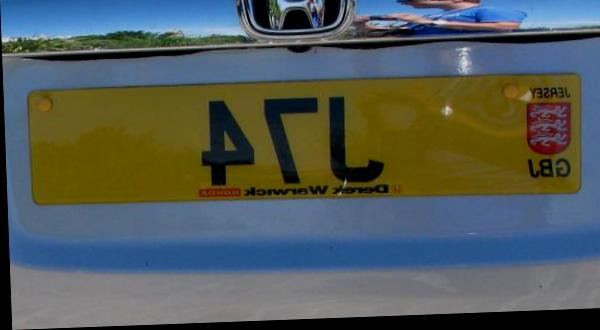License_Plate: (13, 52, 596, 226)
